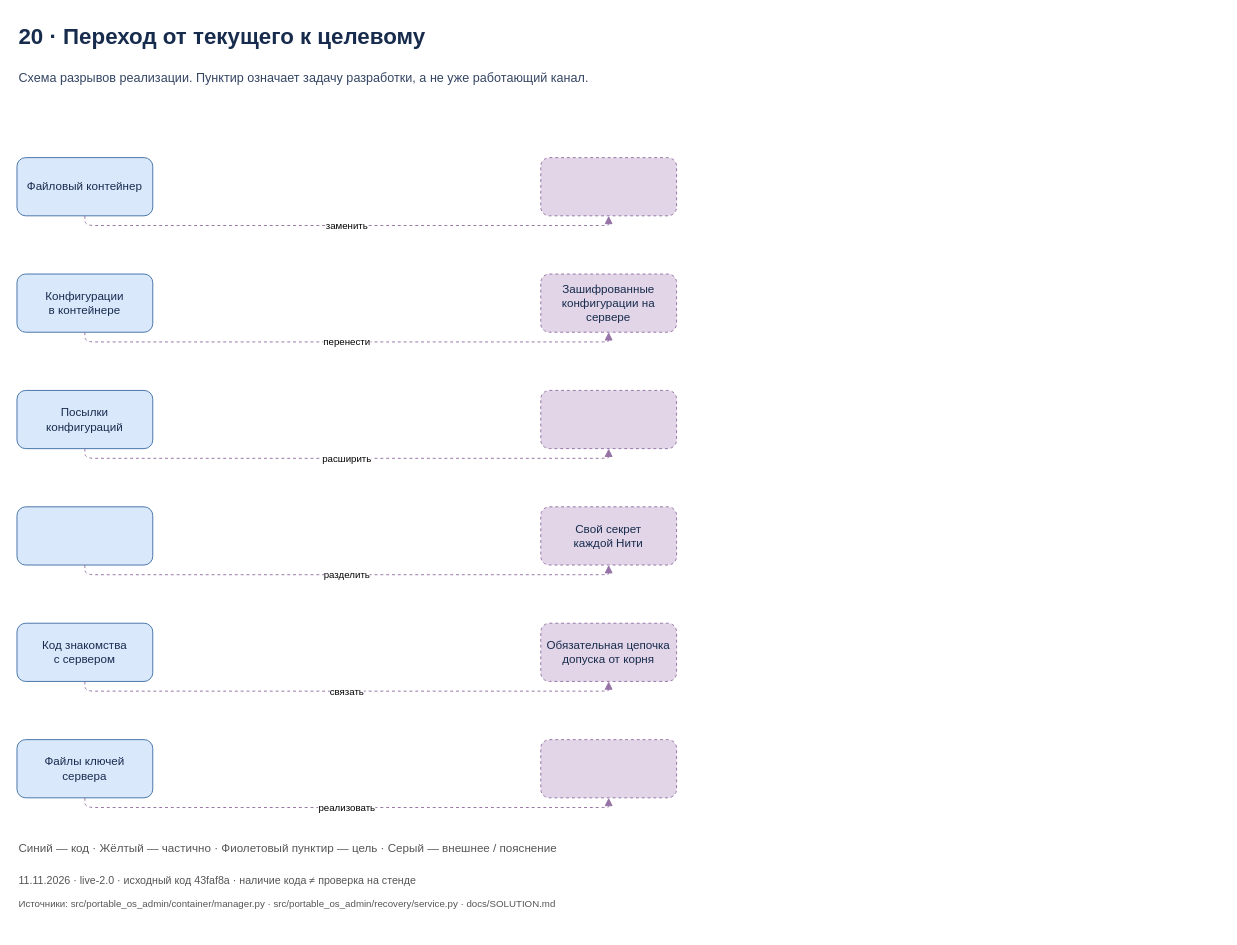
Some shapes in this 1237 by 945 pixel diagram are drawn without their labels. The centre of each missing label's shape, as x and y in pixels:
"Запечатанный сервер и аварийные слоты" belongs at point (608, 768).
"Общий секрет админа для восстановления" belongs at point (84, 535).
"Передача Нитей секреты + владение" belongs at point (608, 419).
"Токен администратора" belongs at point (608, 186).
